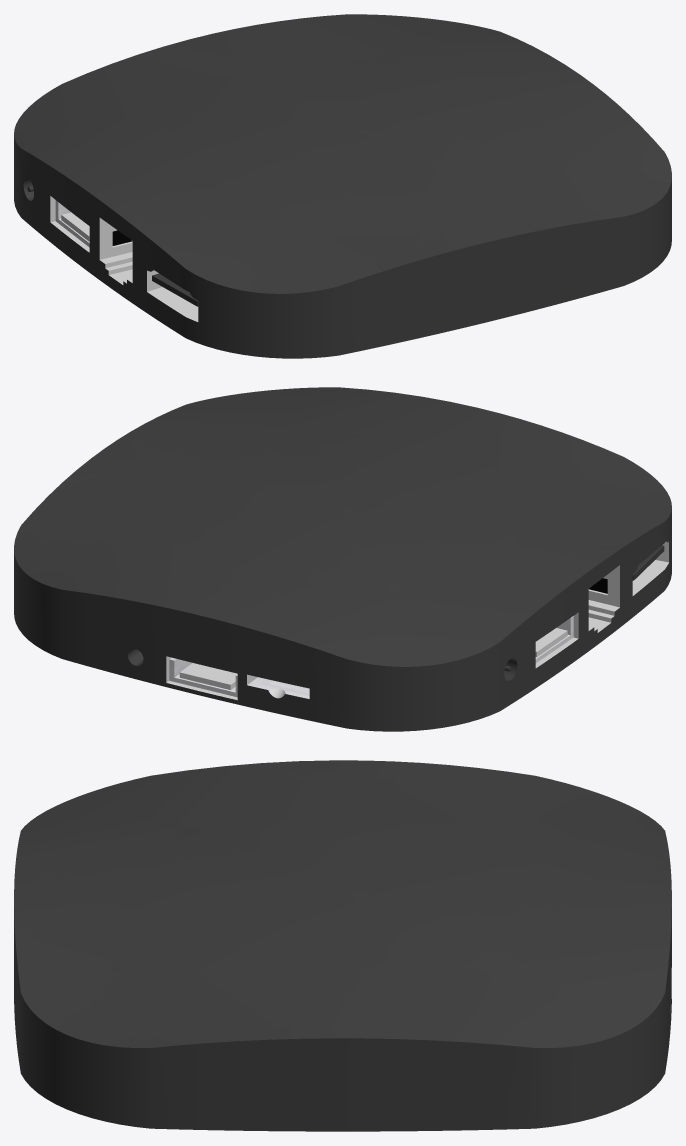
Rendered from stb.glb.
3 renders of one model, top to bottom at view 1: azimuth 30°, elevation 25°; view 2: azimuth 150°, elevation 25°; view 3: azimuth 270°, elevation 25°, orthographic. The views are drawn at different scales.
Parts seen in each view (by area): view 1: Material2, Material3; view 2: Material2 (×2), Material3 (×3); view 3: Material2.
Part boxes in pixels (<box>): Material2: <box>14,14,671,358</box>; Material3: <box>99,218,198,321</box>; Material2 (×2): <box>14,387,671,731</box>; Material3 (×3): <box>169,541,668,698</box>; Material2: <box>14,760,671,1131</box>.
Size of the model in its own units: 3.78 by 0.7756 by 3.78.
Materials: 6 (1 with a texture image).
